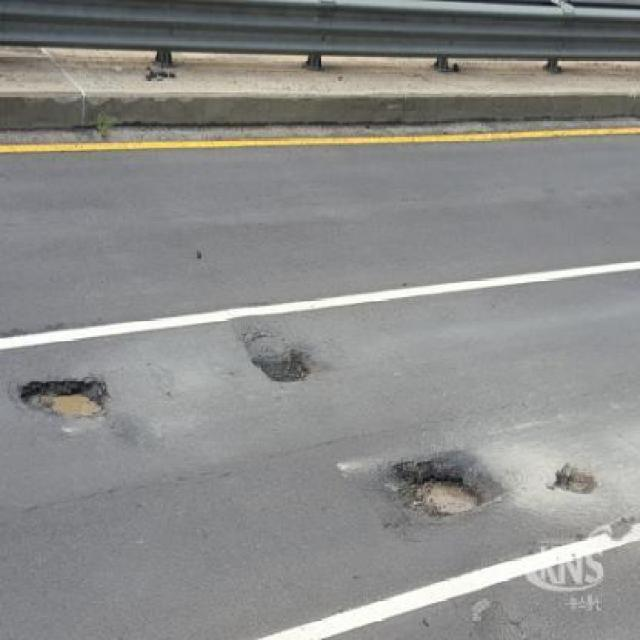pothole: (392, 450, 494, 516), (16, 370, 116, 427), (239, 329, 314, 392), (548, 460, 604, 508)
